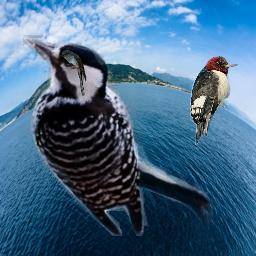Cuckoo: (59, 50, 87, 96)
Woodpecker: (23, 35, 213, 236), (190, 56, 239, 145)
